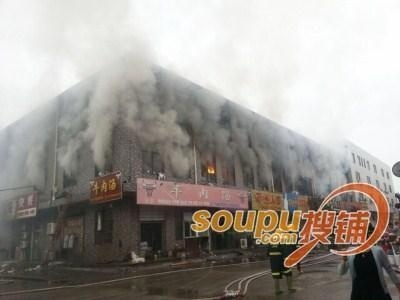fire: (206, 162, 216, 174)
